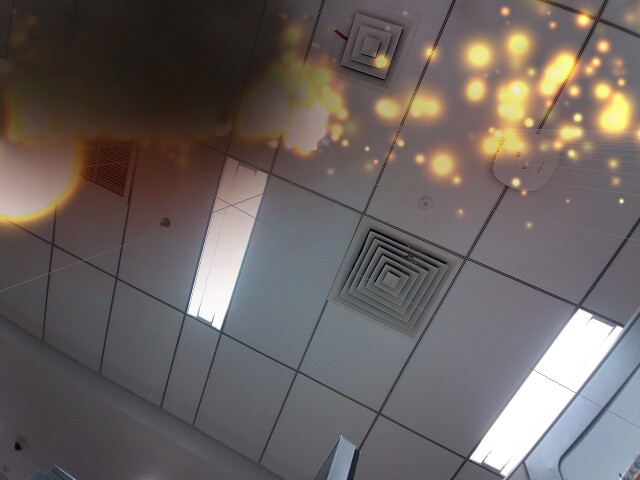fire: (0, 109, 88, 230)
